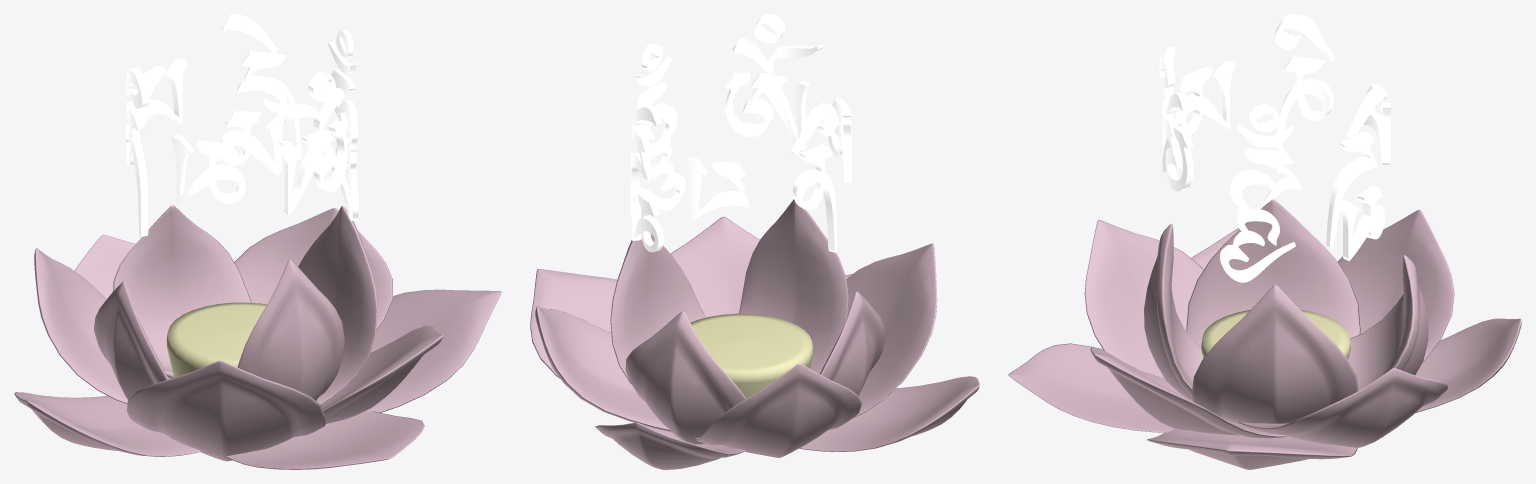
The picture shows the model from 3 angles, left to right: view 1: azimuth 30°, elevation 25°; view 2: azimuth 150°, elevation 25°; view 3: azimuth 270°, elevation 25°; orthographic projection. The views are drawn at different scales.
Parts seen in each view (by area): view 1: Lotus2022:group34LotusCombined, Lotus2022:stamengroup34, polySurface22, polySurface21, polySurface17, polySurface25, polySurface14, polySurface19, polySurface26, polySurface23, polySurface18, polySurface20 (+1 smaller); view 2: Lotus2022:group34LotusCombined, Lotus2022:stamengroup34, polySurface22, polySurface14, polySurface19, polySurface26, polySurface17, polySurface21, polySurface23, polySurface20, polySurface25, polySurface24; view 3: Lotus2022:group34LotusCombined, polySurface14, polySurface21, polySurface19, polySurface17, polySurface22, polySurface25, Lotus2022:stamengroup34, polySurface20, polySurface26, polySurface18, polySurface16 (+2 smaller).
Boxes of the visible parts, box(x1,y1,x2,y2) form: Lotus2022:group34LotusCombined: box(14, 205, 501, 469); Lotus2022:stamengroup34: box(166, 302, 267, 377); polySurface22: box(279, 120, 347, 214); polySurface21: box(171, 134, 245, 203); polySurface17: box(219, 111, 286, 175); polySurface25: box(237, 51, 302, 162); polySurface14: box(323, 69, 358, 220); polySurface19: box(126, 102, 148, 237); polySurface26: box(139, 58, 187, 124); polySurface23: box(263, 87, 344, 131); polySurface18: box(221, 14, 278, 54); polySurface20: box(126, 67, 149, 108); Lotus2022:group34LotusCombined: box(530, 199, 979, 469); Lotus2022:stamengroup34: box(690, 313, 813, 398); polySurface22: box(725, 72, 810, 151); polySurface14: box(636, 82, 685, 211); polySurface19: box(792, 144, 836, 252); polySurface26: box(686, 157, 749, 220); polySurface17: box(631, 182, 664, 252); polySurface21: box(828, 98, 851, 183); polySurface23: box(732, 38, 823, 74); polySurface20: box(791, 102, 837, 154); polySurface25: box(630, 124, 653, 215); polySurface24: box(754, 14, 785, 43); Lotus2022:group34LotusCombined: box(1008, 199, 1521, 469); polySurface14: box(1220, 148, 1302, 282); polySurface21: box(1175, 60, 1235, 135); polySurface19: box(1277, 56, 1333, 174); polySurface17: box(1340, 186, 1384, 260); polySurface22: box(1162, 99, 1193, 191); polySurface25: box(1326, 131, 1377, 248); Lotus2022:stamengroup34: box(1201, 309, 1350, 359); polySurface20: box(1274, 14, 1335, 62); polySurface26: box(1364, 83, 1390, 164); polySurface18: box(1346, 88, 1383, 139); polySurface16: box(1237, 123, 1294, 147).
Bounding box in the file's own units: 0.1828 × 0.1411 × 0.1755.
